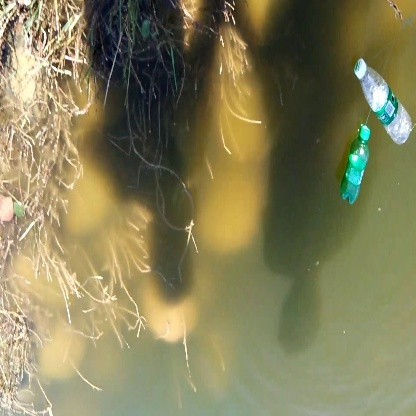bottle: (355, 54, 416, 144), (335, 126, 377, 209)
